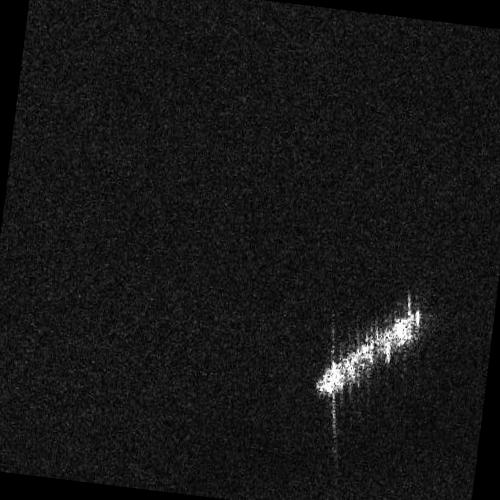ship: (316, 310, 421, 397)
